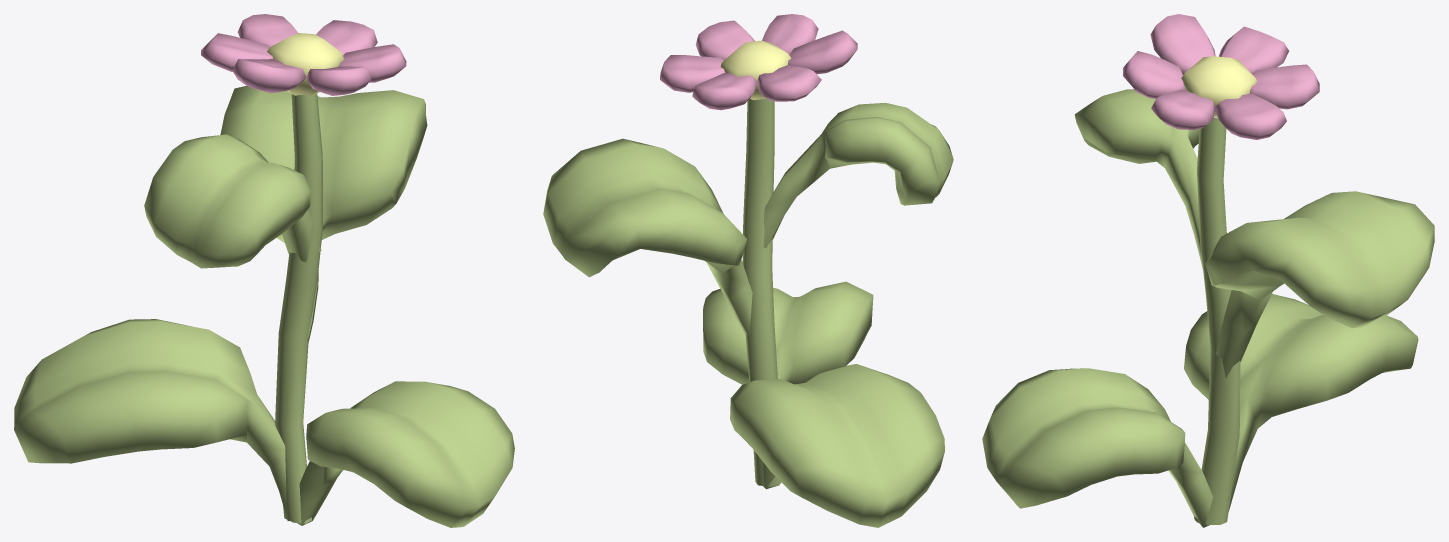
File: Flower_12.fbx
The picture shows the model from 3 angles, left to right: view 1: azimuth 30°, elevation 25°; view 2: azimuth 150°, elevation 25°; view 3: azimuth 270°, elevation 25°; orthographic projection. The views are drawn at different scales.
Parts seen in each view (by area): view 1: polySurface864; view 2: polySurface864; view 3: polySurface864.
Part boxes in pixels (bbox=[...]): polySurface864: bbox=[14, 14, 514, 527]; polySurface864: bbox=[543, 14, 953, 527]; polySurface864: bbox=[982, 14, 1434, 527].
Size of the model in its own units: 44.22 by 50.67 by 43.56.
